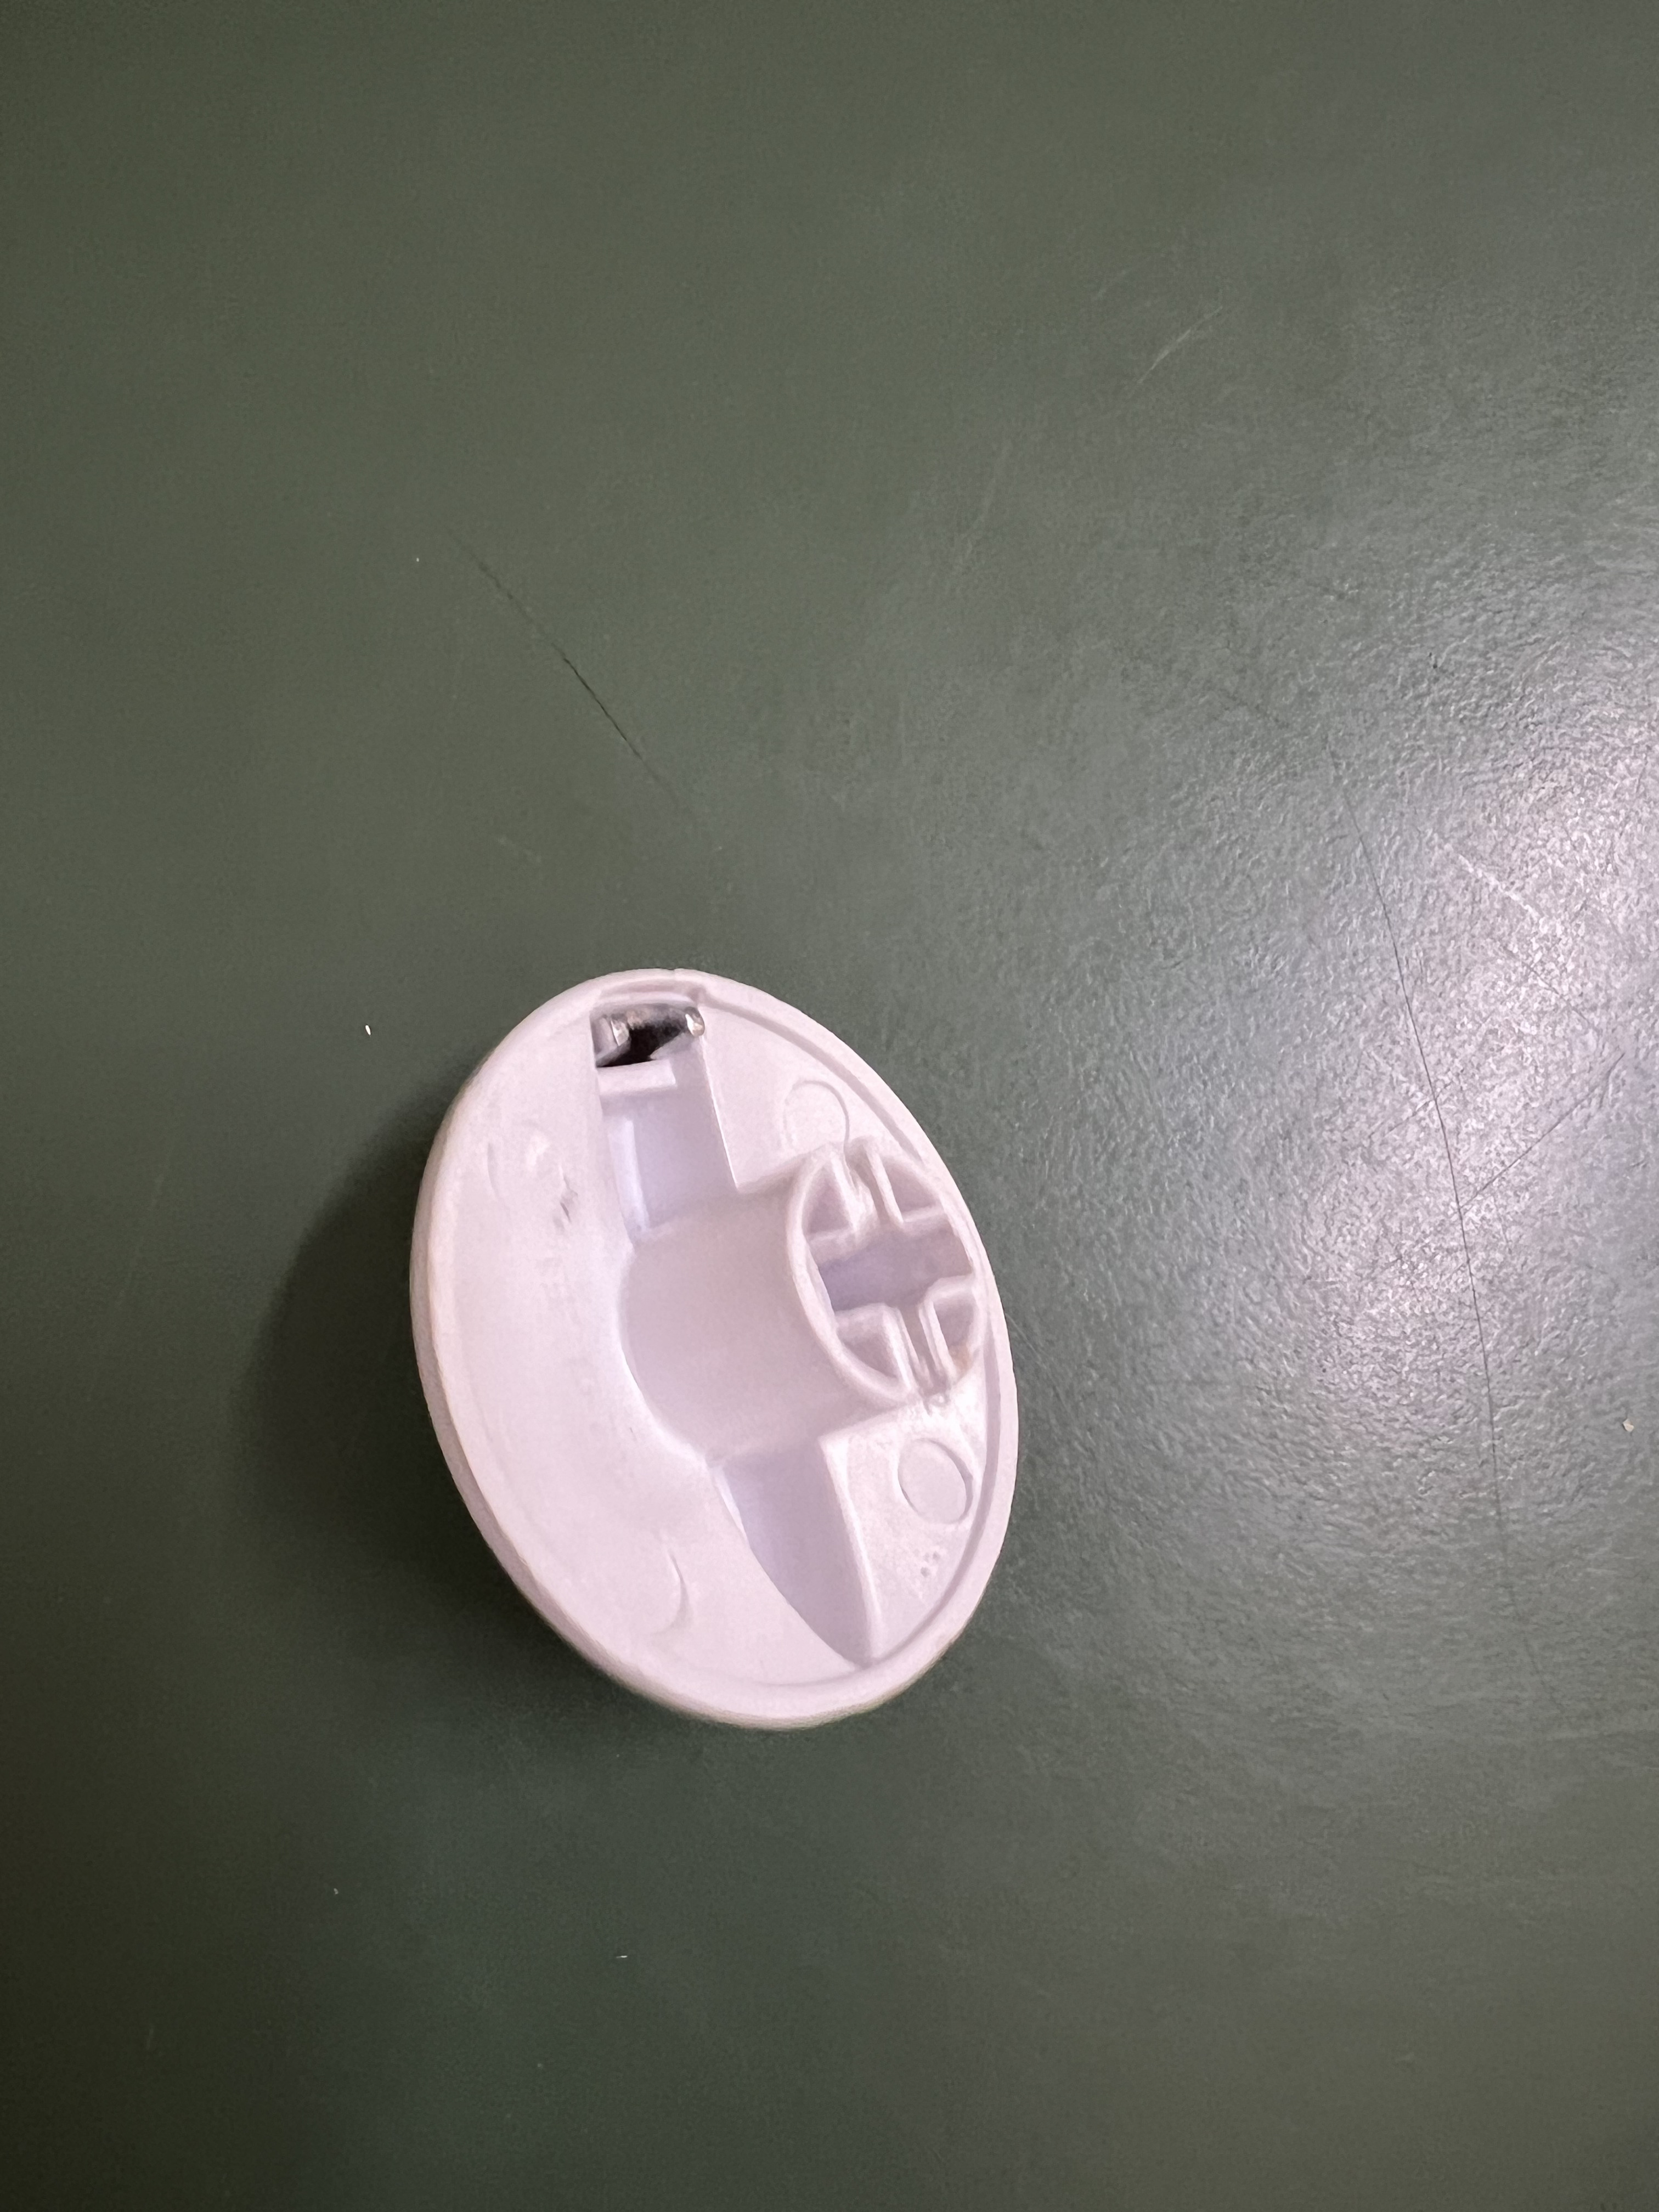regulator: (403, 945, 1019, 1758)
